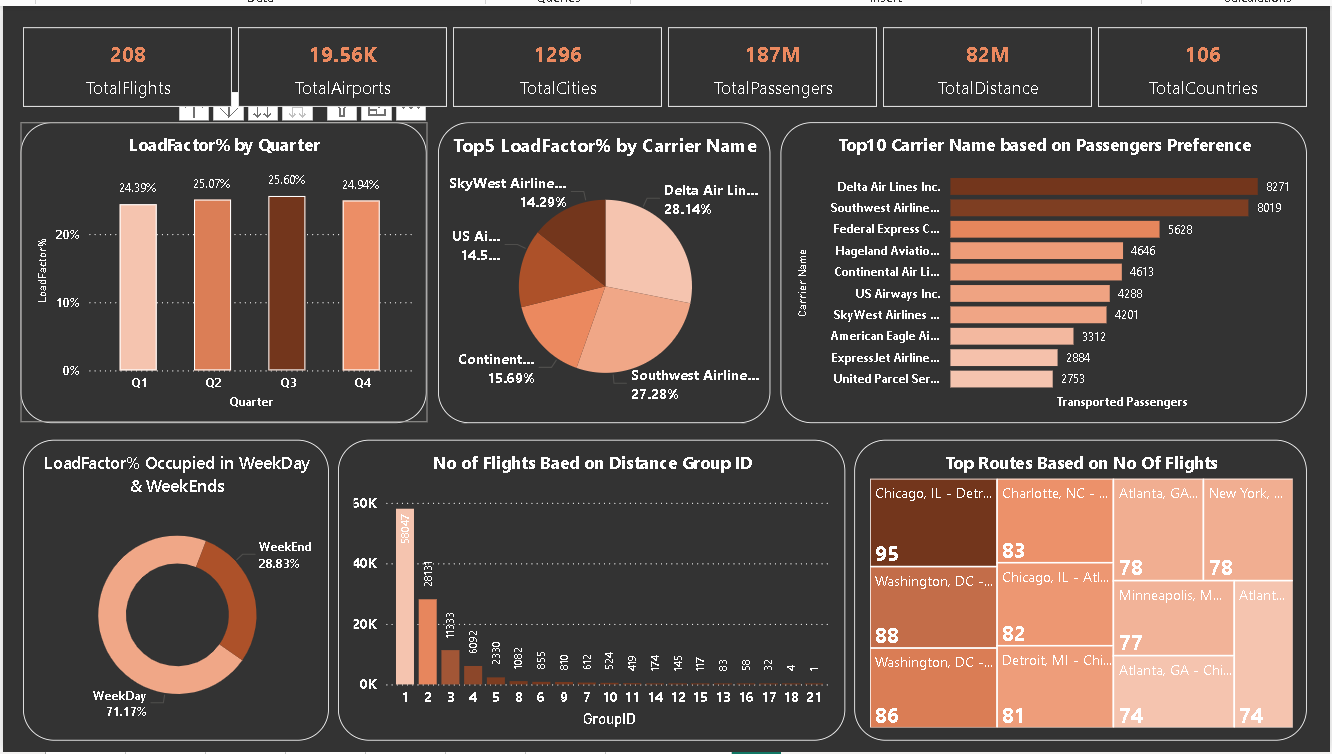

The dashboard page shown, as its layout file describes it:
{"tool":"tableau","page":{"name":"Dashboard 1","canvas":[1000,1000],"units":"permille","ordinal":0},"visuals":[{"type":"title","box":[4.8,10,990.3,67.4]},{"type":"image","param":"Image/download 1.jpeg","box":[7.9,13.7,114.1,48.7]},{"type":"image","param":"Image/download.jpeg","box":[275.2,15,56.7,37.5]},{"type":"image","param":"Image/airplane-logo-template-airplane-logo-elements-airplane-logo-icon-vector.jp","box":[315.6,15,31.4,40]},{"type":"image","param":"Image/download.jpeg","box":[325.3,15,67.6,38.7]},{"type":"image","param":"Image/airplane-logo-template-airplane-logo-elements-airplane-logo-icon-vector.jp","box":[663.2,15,31.4,40]},{"type":"image","param":"Image/airplane-logo-template-airplane-logo-elements-airplane-logo-icon-vector.jp","box":[349.4,16.2,31.4,40]},{"type":"image","param":"Image/airplane-logo-template-airplane-logo-elements-airplane-logo-icon-vector.jp","box":[628.9,17.5,31.4,40]},{"type":"dashboard-object","box":[875.7,20,112.2,43.7]},{"type":"worksheet","title":"Total airlines","mark":"Automatic","box":[7.9,79.9,120.7,107.4]},{"type":"worksheet","title":"Total cities","mark":"Automatic","box":[129.8,79.9,120.7,107.4]},{"type":"worksheet","title":"Total countries","mark":"Automatic","box":[252.3,79.9,120.7,107.4]},{"type":"worksheet","title":"Total Distance","mark":"Automatic","box":[374.8,79.9,120.7,107.4]},{"type":"worksheet","title":"Total Passengers","mark":"Automatic","box":[497.3,79.9,144.8,107.4]},{"type":"filter","title":"KPI22","param":"[federated.08m16590t00yph1cbb9fu1maycqq].[yr:Date:ok]","box":[647.6,82.4,102.6,101.1]},{"type":"filter","title":"Total countries","param":"[federated.08m16590t00yph1cbb9fu1maycqq].[none:Origin Country:nk]","box":[754.4,82.4,116.5,99.9]},{"type":"filter","title":"KPI4","param":"[federated.08m16590t00yph1cbb9fu1maycqq].[none:Carrier Name:nk]","box":[876.9,82.4,114.7,101.1]},{"type":"worksheet","title":"KPI22","mark":"Bar","rows":["Date"],"box":[8.4,196,233,337.1]},{"type":"worksheet","title":"KPI21","mark":"Bar","rows":["LoadFactor%"],"cols":["Date"],"box":[242.6,196,229.3,338.3]},{"type":"worksheet","title":"KPI23","mark":"Bar","rows":["LoadFactor%"],"cols":["Date"],"box":[473.8,196,303.6,337.1]},{"type":"worksheet","title":"KPI3","mark":"Pie","box":[779.1,196,212.4,335.8]},{"type":"worksheet","title":"KPI7.","mark":"Automatic","rows":["%Airline ID"],"cols":["%Distance Group ID"],"box":[9.1,539.3,287.3,443.2]},{"type":"worksheet","title":"KPI4","mark":"Circle","box":[299.3,540.6,293.3,440.7]},{"type":"worksheet","title":"KPI6","mark":"Pie","box":[852.8,540.6,139.4,438.2]},{"type":"worksheet","title":"KPI5","mark":"Automatic","rows":["From - To City"],"cols":["# Departures Performed"],"box":[596.3,541.8,252.9,438.2]}]}

Visuals, with their boxes on the dashboard's canvas, which has no fixed pixel size, in thousandths of its width and height (x1, y1, x2, y2). These are canvas units, not pixel positions in the 1332x754 screenshot, which may show the page scaled, cropped or inside an application window:
title: region(5, 10, 995, 77)
image: region(8, 14, 122, 62)
image: region(275, 15, 332, 52)
image: region(316, 15, 347, 55)
image: region(325, 15, 393, 54)
image: region(663, 15, 695, 55)
image: region(349, 16, 381, 56)
image: region(629, 18, 660, 58)
dashboard-object: region(876, 20, 988, 64)
"Total airlines" worksheet: region(8, 80, 129, 187)
"Total cities" worksheet: region(130, 80, 250, 187)
"Total countries" worksheet: region(252, 80, 373, 187)
"Total Distance" worksheet: region(375, 80, 496, 187)
"Total Passengers" worksheet: region(497, 80, 642, 187)
"KPI22" filter: region(648, 82, 750, 184)
"Total countries" filter: region(754, 82, 871, 182)
"KPI4" filter: region(877, 82, 992, 184)
"KPI22" worksheet (Bar marks): region(8, 196, 241, 533)
"KPI21" worksheet (Bar marks): region(243, 196, 472, 534)
"KPI23" worksheet (Bar marks): region(474, 196, 777, 533)
"KPI3" worksheet (Pie marks): region(779, 196, 992, 532)
"KPI7." worksheet: region(9, 539, 296, 982)
"KPI4" worksheet (Circle marks): region(299, 541, 593, 981)
"KPI6" worksheet (Pie marks): region(853, 541, 992, 979)
"KPI5" worksheet: region(596, 542, 849, 980)
